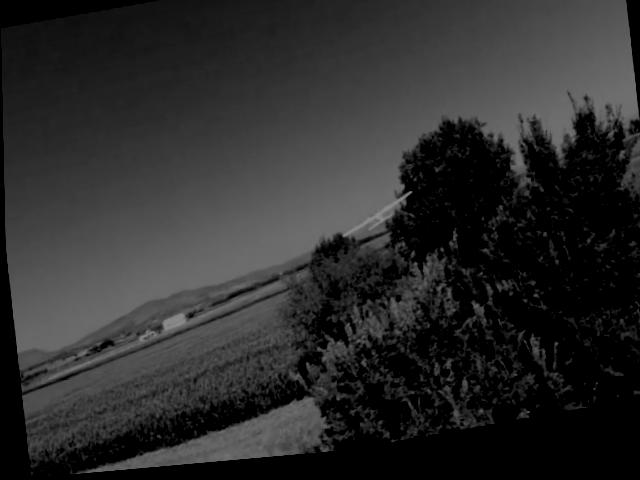hedef: (332, 180, 421, 257)
